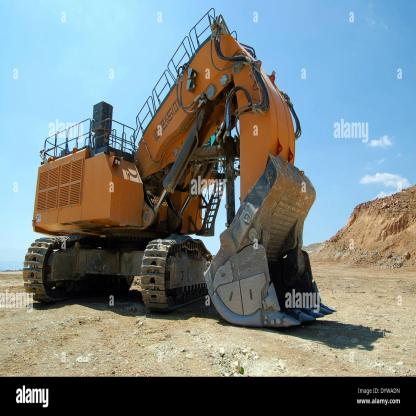excavator: (24, 12, 339, 338)
